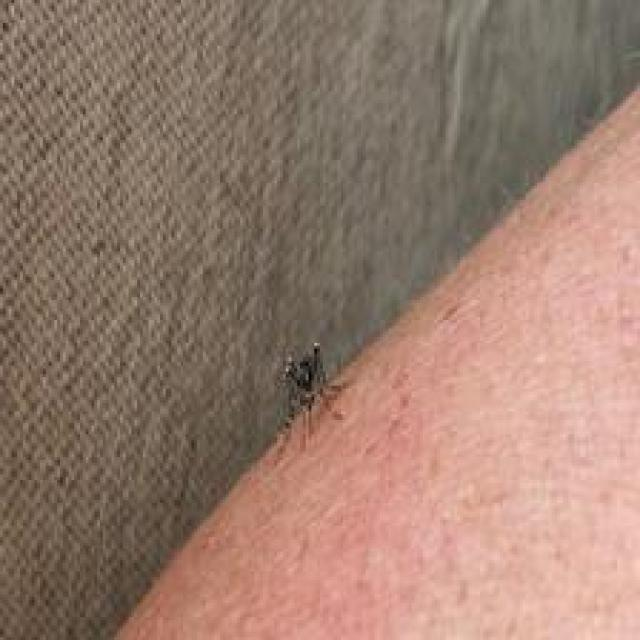Aedes albopictus: (280, 340, 331, 440)
